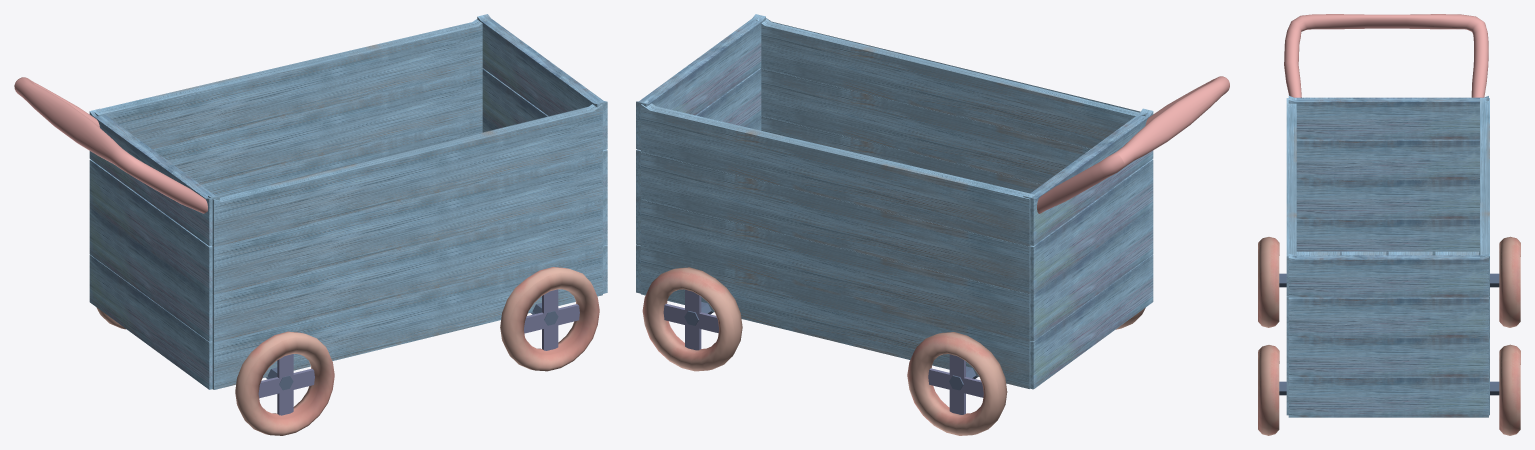
The model's file is cart.fbx.
3 views of the same model, side by side, from view 1: azimuth 30°, elevation 25°; view 2: azimuth 150°, elevation 25°; view 3: azimuth 270°, elevation 25° (orthographic). The views are drawn at different scales.
Visible parts, largest first — view 1: cart; view 2: cart; view 3: cart.
Part boxes in pixels (bbox=[...]): cart: bbox=[14, 14, 607, 435]; cart: bbox=[636, 14, 1229, 435]; cart: bbox=[1258, 14, 1520, 435].
Size of the model in its own units: 203 by 121 by 114.
Materials: 6 (6 with a texture image).
